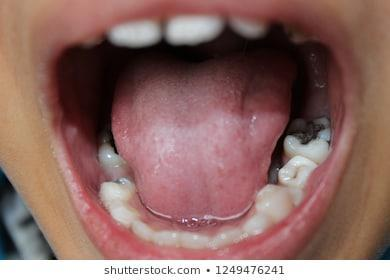cavity: (284, 115, 338, 163), (97, 142, 136, 178), (277, 155, 319, 188), (99, 176, 140, 206)
normal: (164, 8, 224, 47), (104, 14, 165, 49), (224, 8, 269, 42), (255, 184, 294, 221), (107, 201, 147, 228), (237, 210, 276, 237), (207, 223, 245, 250), (178, 230, 212, 251), (131, 218, 155, 244), (152, 229, 183, 248)
